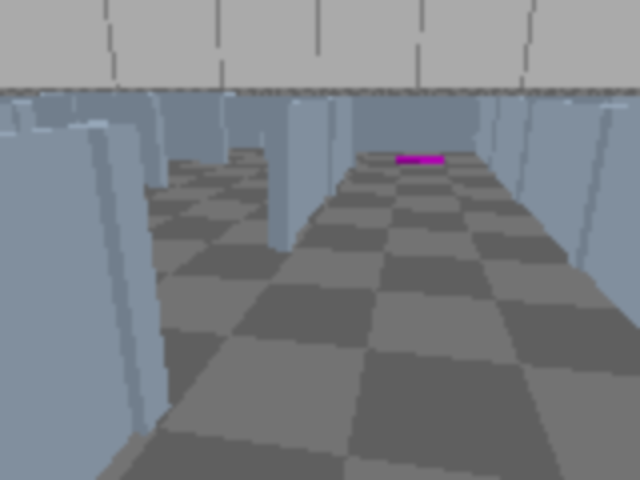goal_zone: (394, 155, 445, 163)
